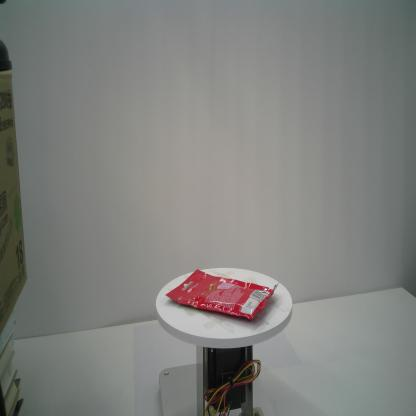Candy: (165, 269, 280, 321)
